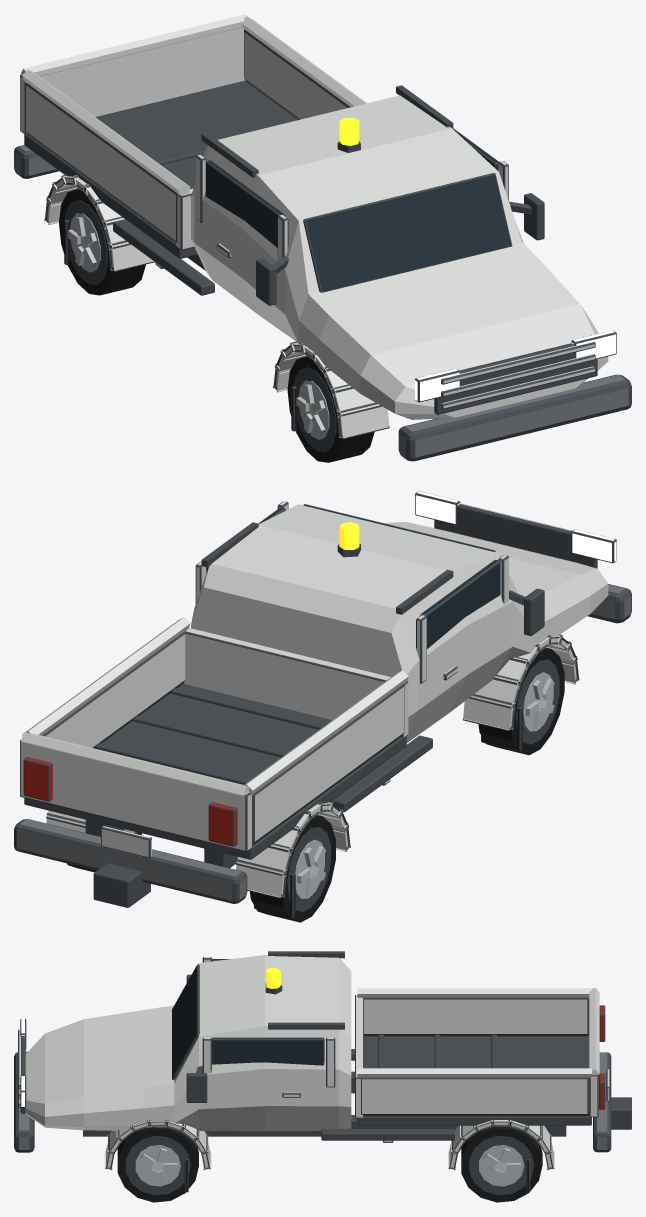
Rendered from veh_pickup.glb.
The picture shows the model from 3 angles, top to bottom: view 1: azimuth 30°, elevation 25°; view 2: azimuth 150°, elevation 25°; view 3: azimuth 270°, elevation 25°; orthographic projection. The views are drawn at different scales.
Visible parts, largest first — view 1: veh_pickup; view 2: veh_pickup; view 3: veh_pickup.
Boxes of the visible parts, box(x1,y1,x2,y2) form: veh_pickup: box(14, 14, 631, 462); veh_pickup: box(14, 491, 631, 922); veh_pickup: box(14, 951, 631, 1202).
Size of the model in its own units: 2.33 by 2.05 by 6.01.
